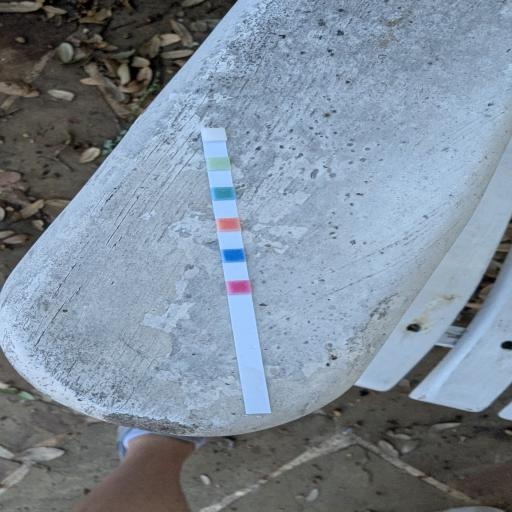strip: (201, 127, 271, 414)
